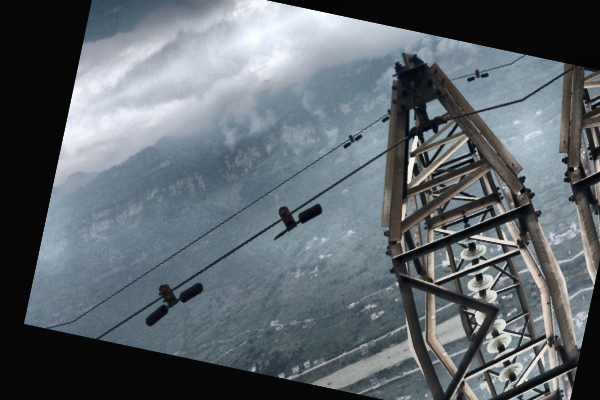damper: (140, 279, 204, 328), (339, 132, 362, 149), (466, 67, 489, 81)
damper_defect: (270, 199, 324, 245)
